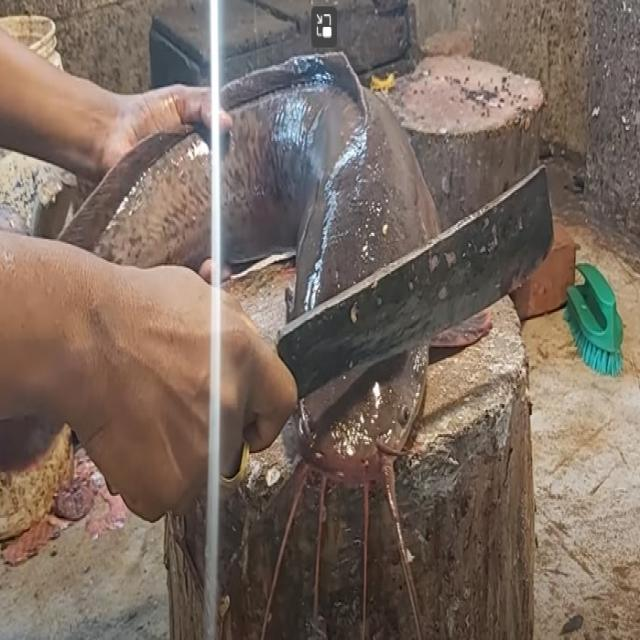Catfish: (84, 50, 485, 491)
